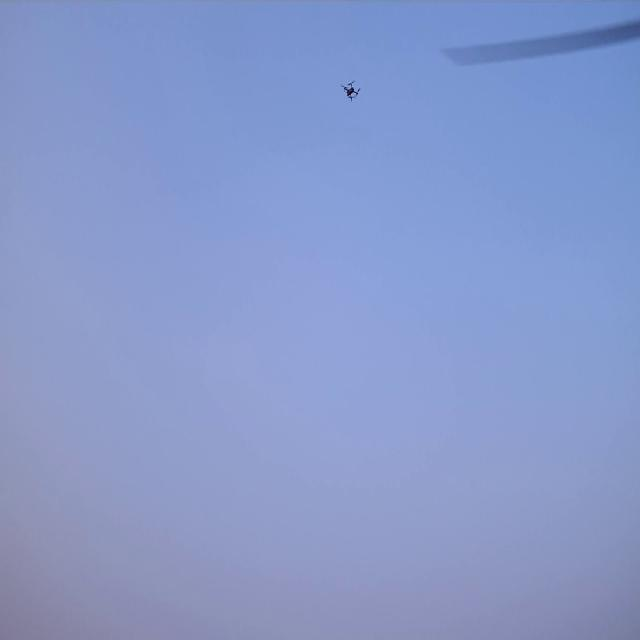UAV: (341, 78, 361, 103)
